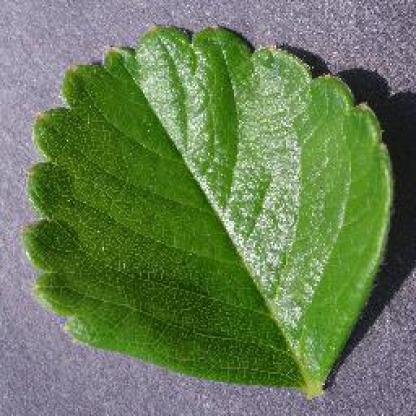healthy: (23, 21, 398, 401)
